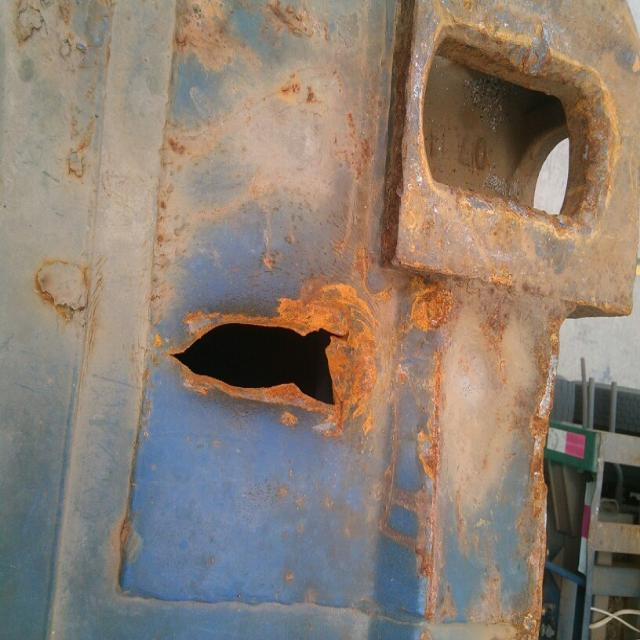hole: (143, 285, 383, 432)
